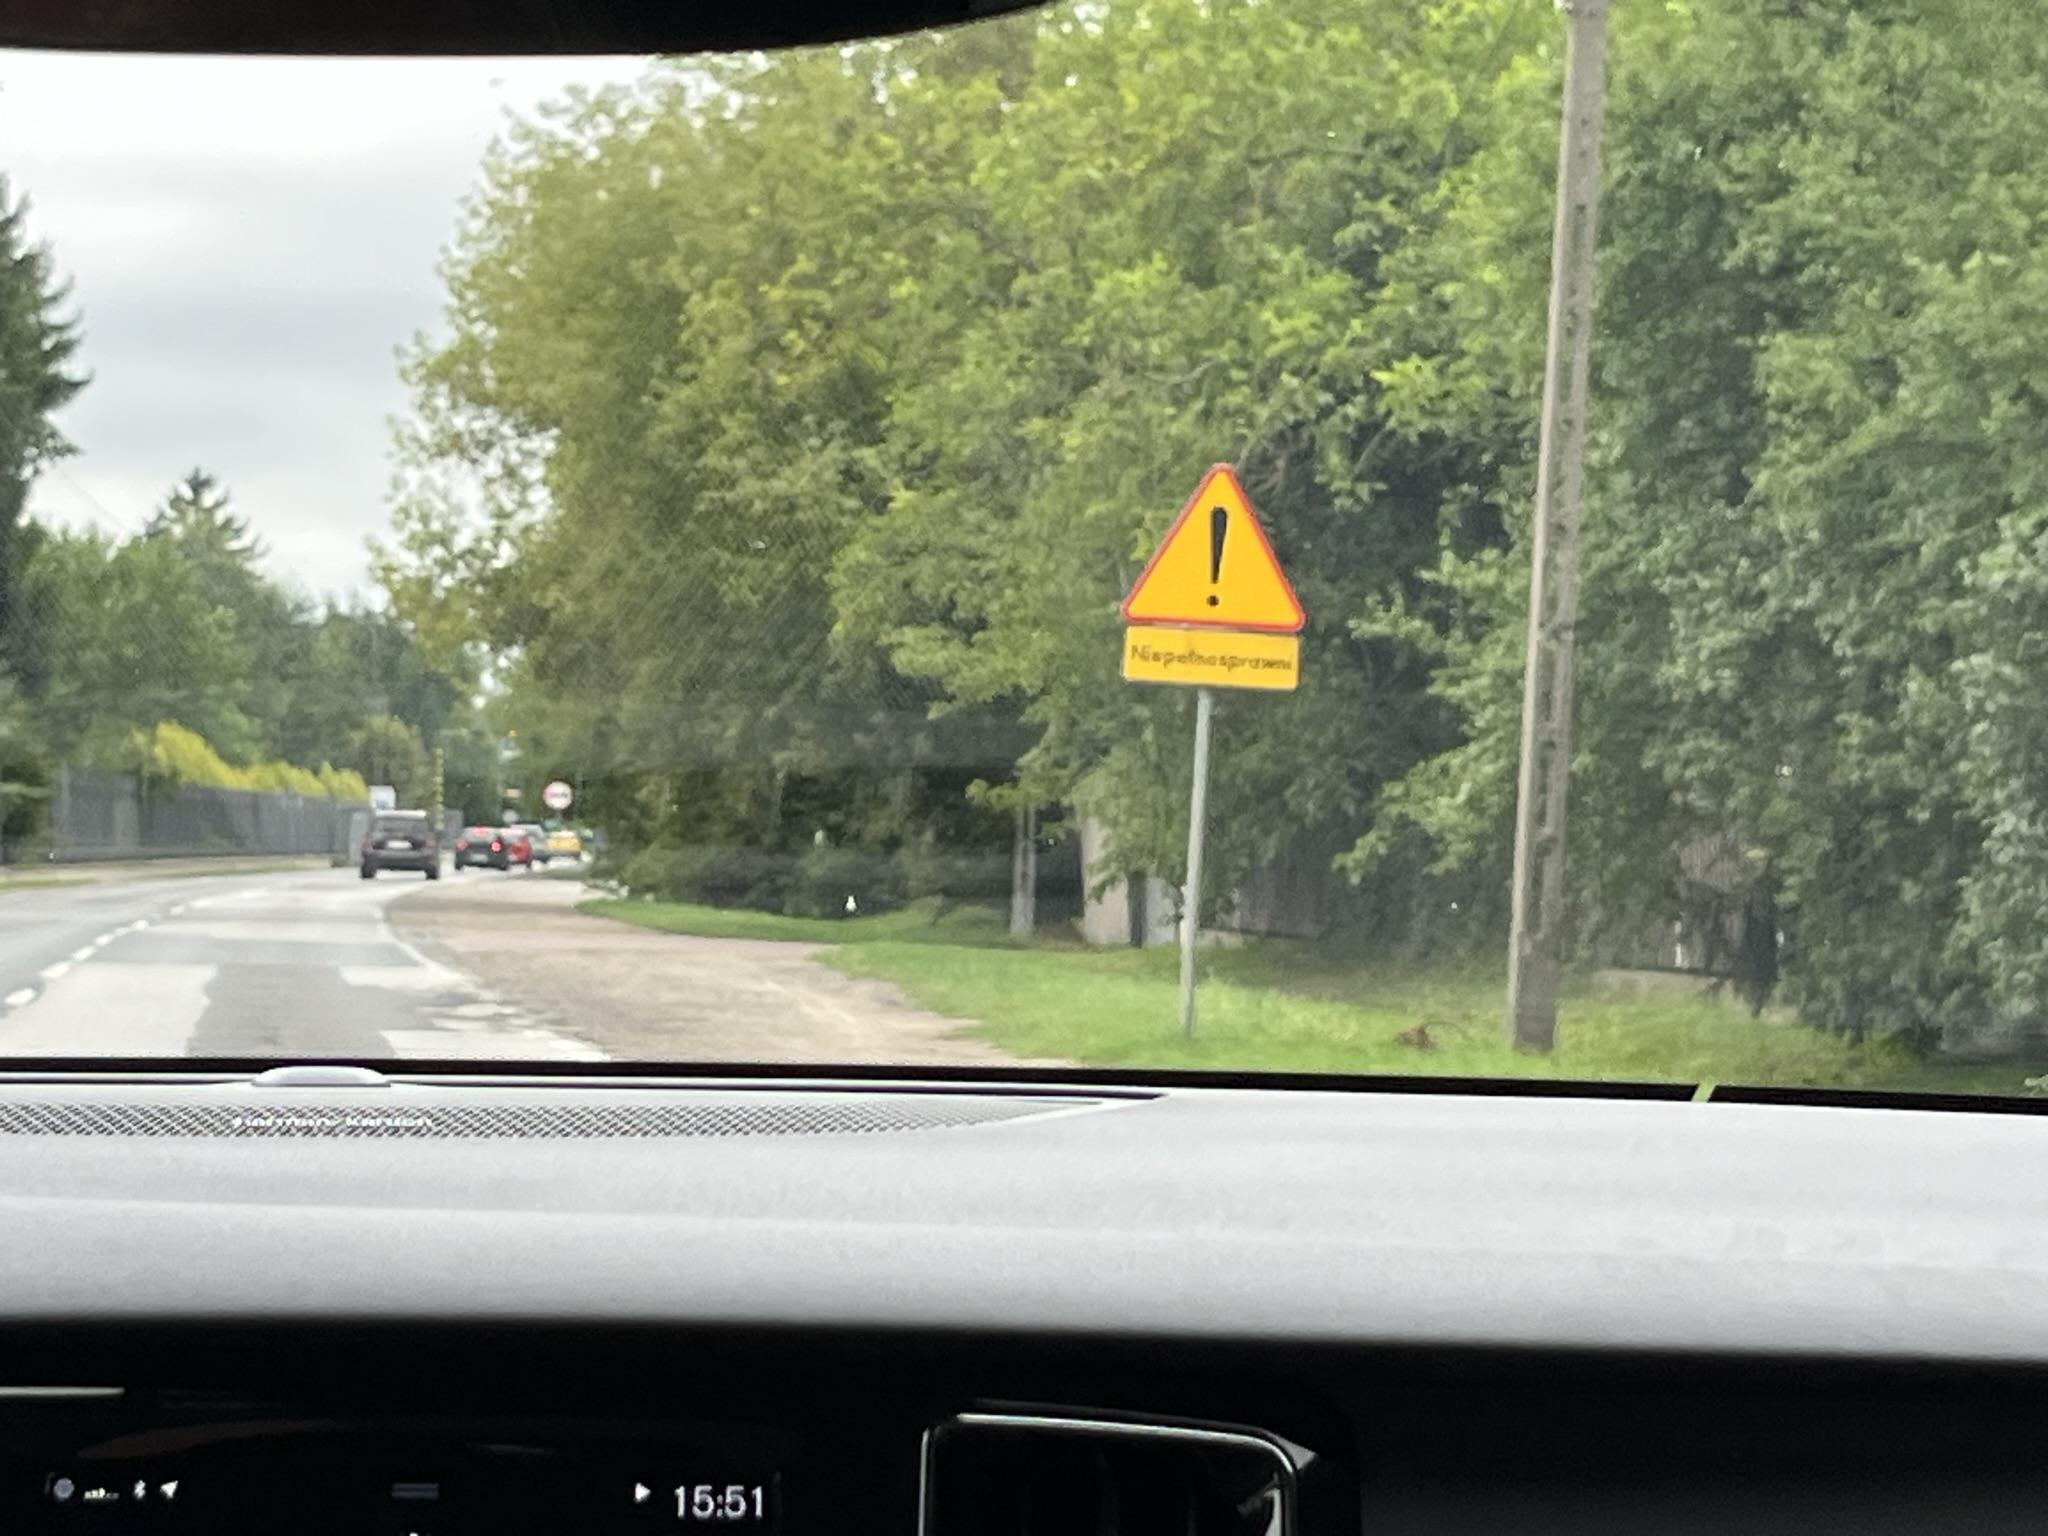other: (1121, 624, 1298, 695)
prohibitory: (543, 779, 572, 810)
warning: (1126, 458, 1306, 632)
